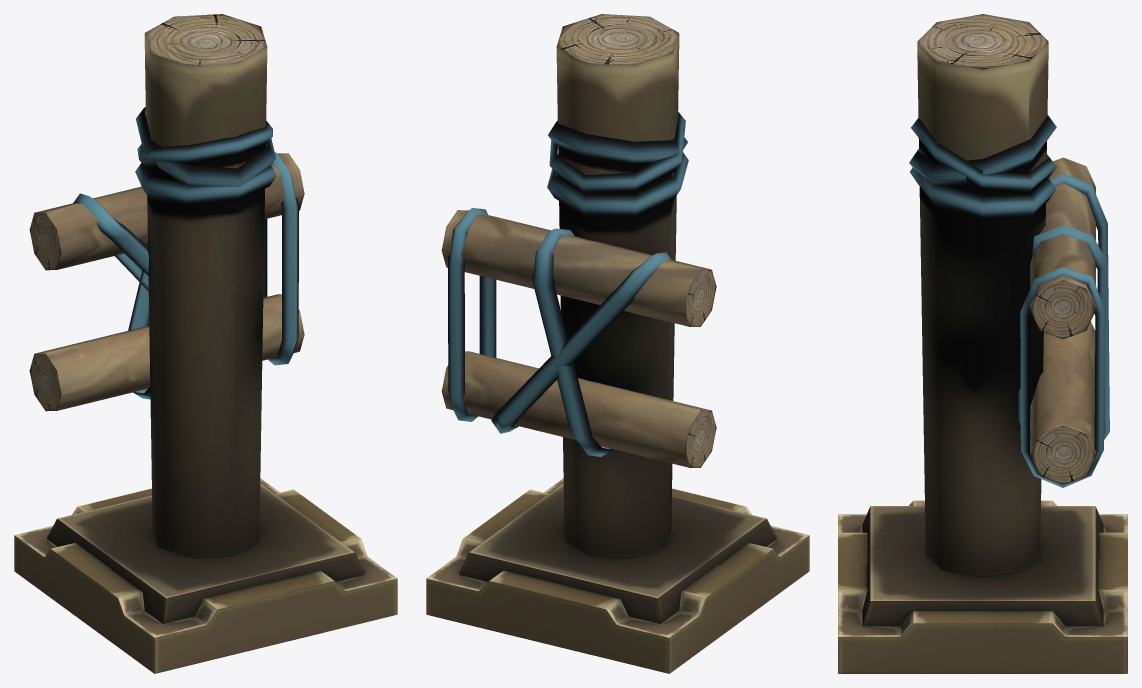
Rendered from trap_445_xbfence_05.fbx.
The picture shows the model from 3 angles, left to right: view 1: azimuth 30°, elevation 25°; view 2: azimuth 150°, elevation 25°; view 3: azimuth 270°, elevation 25°; orthographic projection. The views are drawn at different scales.
Visible parts, largest first — view 1: trap_445_xbfence_05; view 2: trap_445_xbfence_05; view 3: trap_445_xbfence_05.
Part boxes in pixels (left/top/right/bottom): trap_445_xbfence_05: left=14, top=14, right=397, bottom=673; trap_445_xbfence_05: left=426, top=14, right=809, bottom=673; trap_445_xbfence_05: left=838, top=14, right=1127, bottom=673.
Bounding box in the file's own units: 0.2618 × 0.569 × 0.2618.
Materials: 1 (1 with a texture image).
